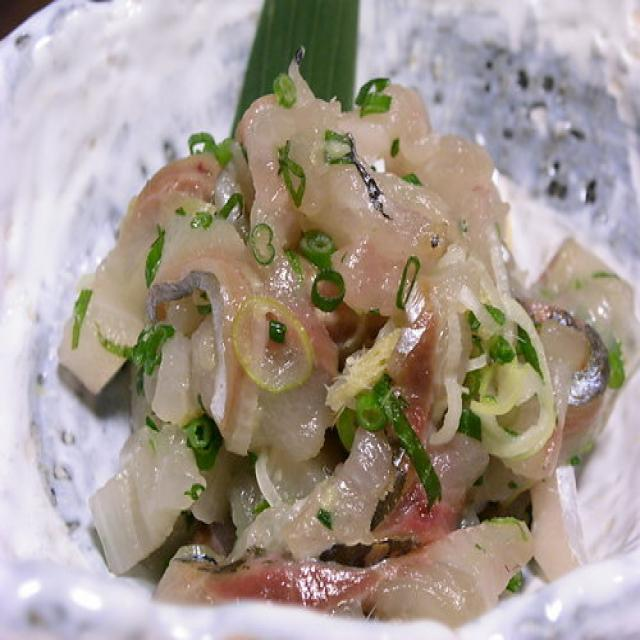熟制海鲜: (0, 42, 640, 640)
